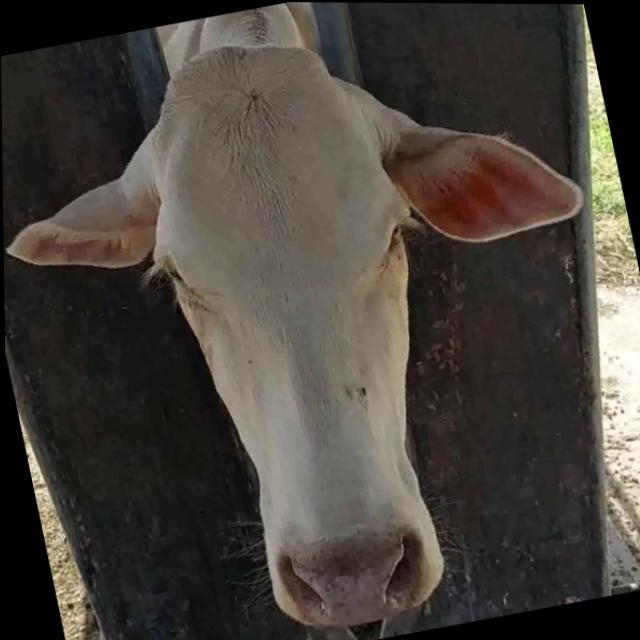cowFace: (120, 15, 484, 640)
